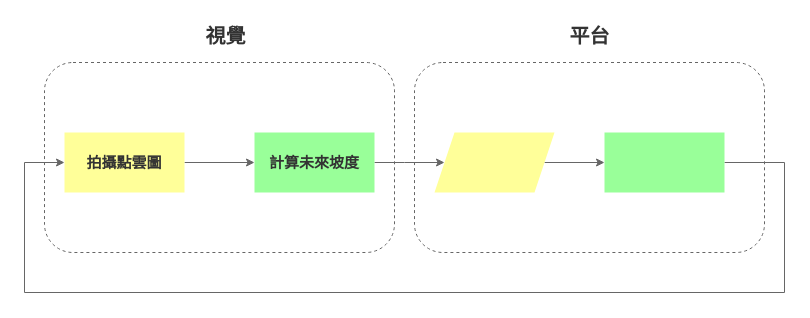
This 810x318 diagram has some shape labels left out. Here are the shapes that lost their labels. From the top down, the centre of each, then its label:
At point (494, 162): "平台角度陣列".
At point (664, 162): "控制平台角度".
